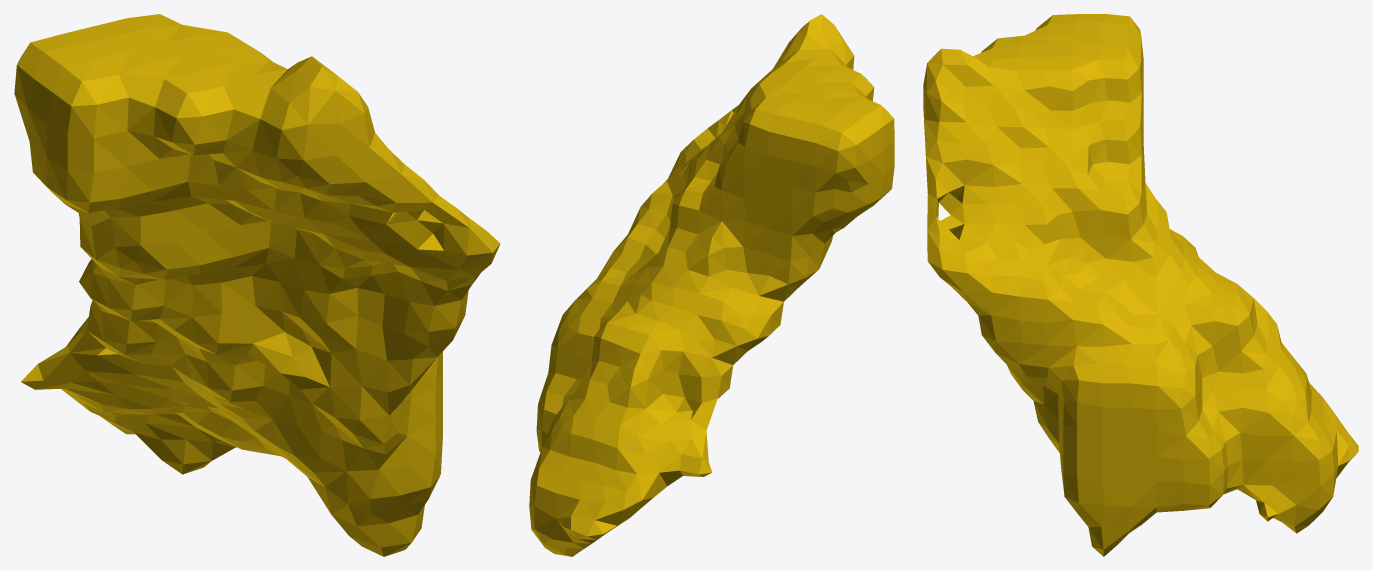
File: aseg_026_Left-Accumbens-area.glb
3 renders of one model, left to right at view 1: azimuth 30°, elevation 25°; view 2: azimuth 150°, elevation 25°; view 3: azimuth 270°, elevation 25°, orthographic. The views are drawn at different scales.
Bounding box in the file's own units: 12 × 17.6 × 15.8.
